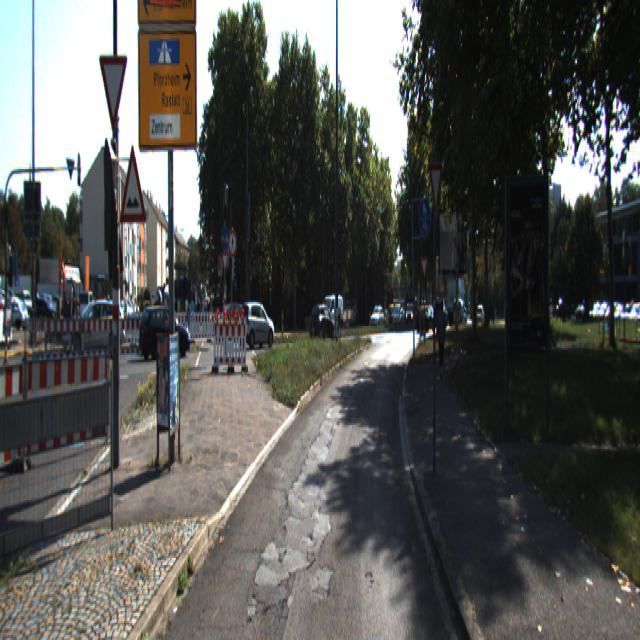Car: (138, 307, 190, 364), (238, 300, 275, 350), (309, 302, 336, 341), (320, 292, 344, 334)
